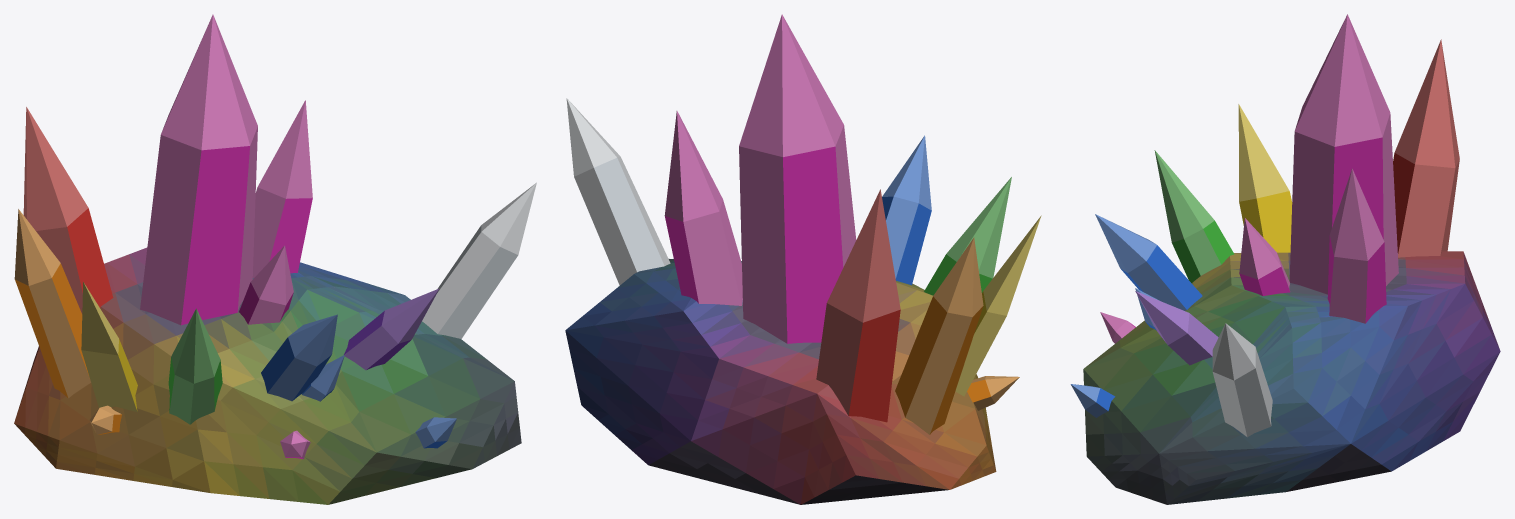
Rendered from Prism_Cluster.glb.
3 views of the same model, side by side, from view 1: azimuth 30°, elevation 25°; view 2: azimuth 150°, elevation 25°; view 3: azimuth 270°, elevation 25° (orthographic). The views are drawn at different scales.
Parts seen in each view (by area): view 1: Prism_Cluster; view 2: Prism_Cluster; view 3: Prism_Cluster.
Boxes of the visible parts, x1,y1,x2,y2 form: Prism_Cluster: (14,14,536,504); Prism_Cluster: (565,14,1041,504); Prism_Cluster: (1070,14,1500,504).
Bounding box in the file's own units: 2.62 × 2.2 × 2.21.
